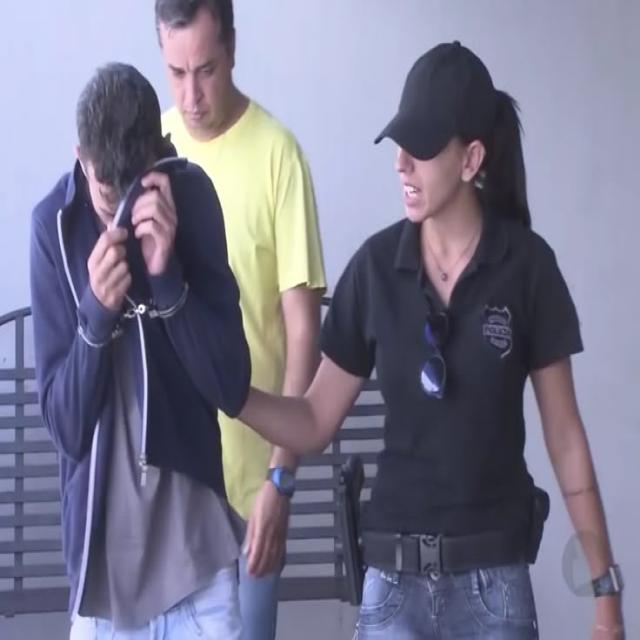8_ropa_rostro: (86, 140, 190, 315)
